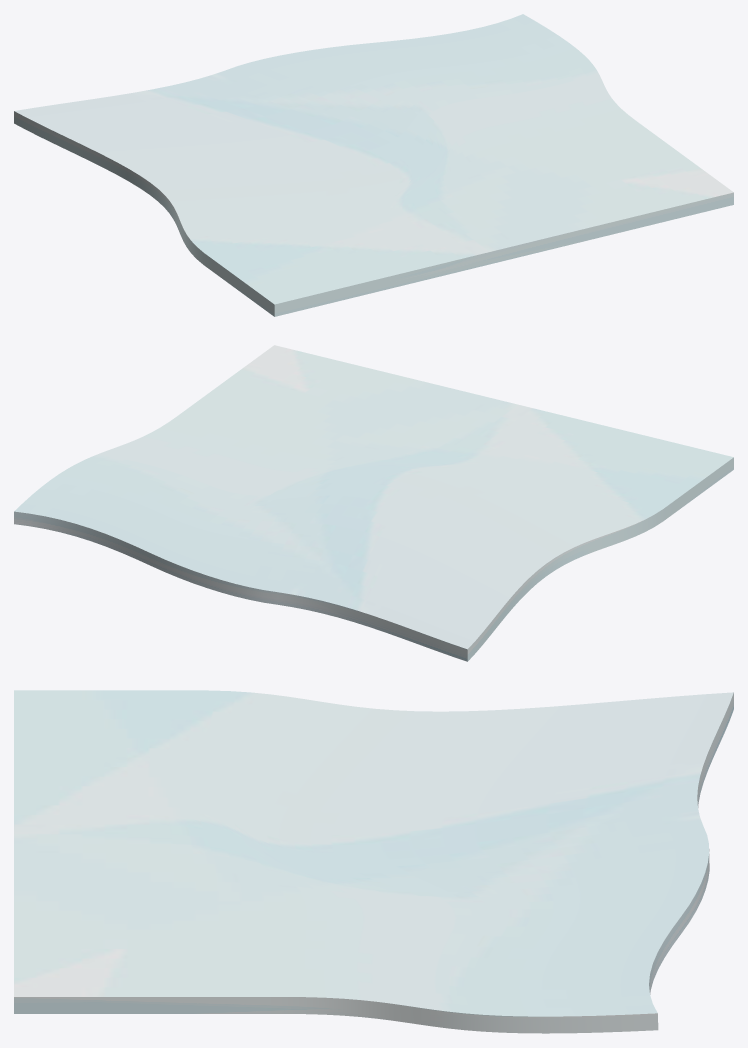
The model's file is ice_sheet5.obj.
3 views of the same model, one above another, from view 1: azimuth 30°, elevation 25°; view 2: azimuth 150°, elevation 25°; view 3: azimuth 270°, elevation 25° (orthographic). The views are drawn at different scales.
Parts seen in each view (by area): view 1: pCube5; view 2: pCube5; view 3: pCube5.
Boxes of the visible parts, bbox=[...] form: pCube5: bbox=[14, 14, 733, 316]; pCube5: bbox=[14, 345, 733, 661]; pCube5: bbox=[14, 690, 733, 1033].
Bounding box in the file's own units: 6.21 × 0.1509 × 5.79.
